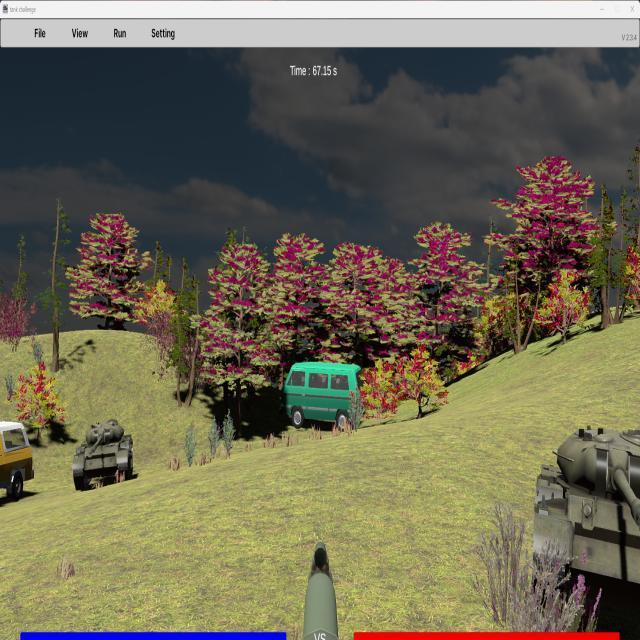Tank: (532, 421, 640, 627), (72, 418, 134, 491)
car: (280, 361, 365, 432), (0, 420, 35, 511)
